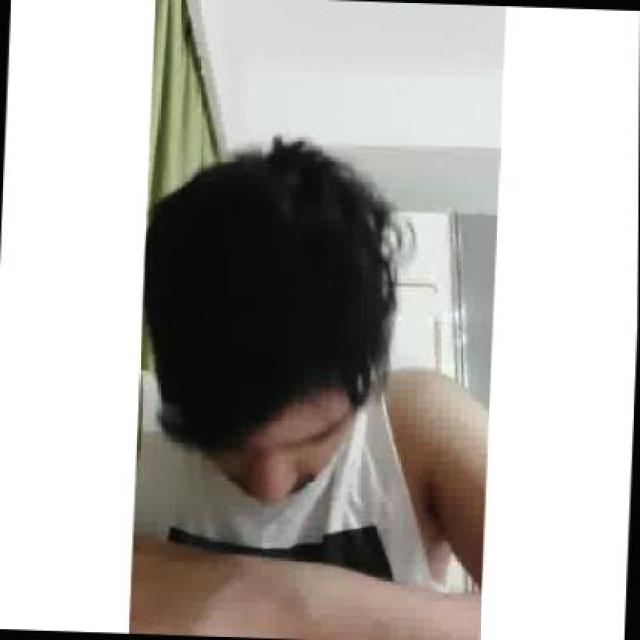inattentif: (136, 130, 375, 508)
